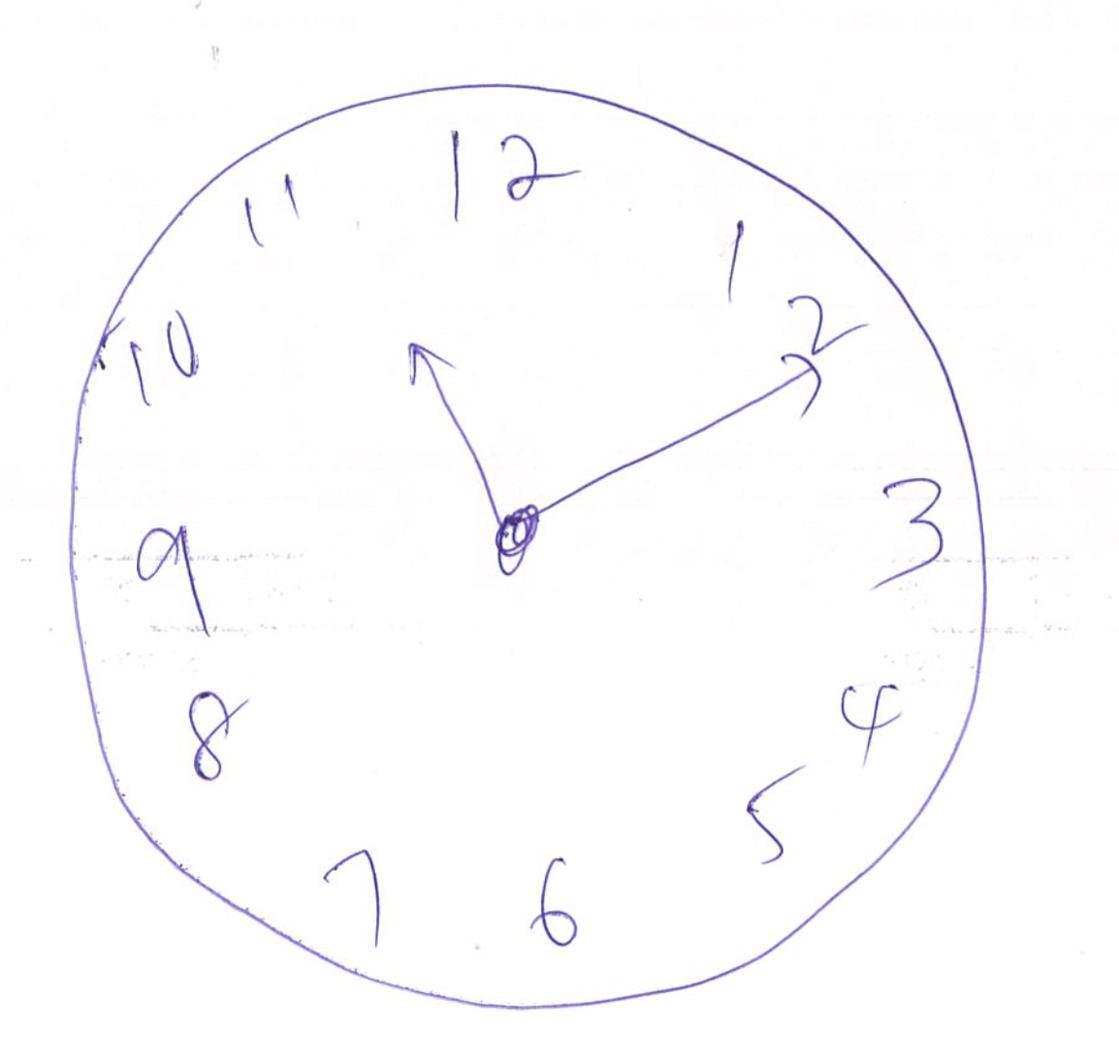1: (715, 212, 750, 313)
10: (123, 304, 203, 412)
11: (233, 171, 304, 254)
12: (442, 109, 581, 226)
2: (782, 288, 873, 359)
3: (863, 466, 950, 587)
4: (831, 674, 905, 767)
5: (734, 759, 806, 869)
6: (528, 843, 584, 956)
7: (318, 839, 393, 954)
8: (178, 682, 246, 787)
9: (129, 512, 214, 645)
contour: (60, 72, 994, 1015)
hand: (404, 345, 823, 577)
top_left_arrow: (405, 340, 502, 522)
top_right_arrow: (524, 347, 823, 518)
